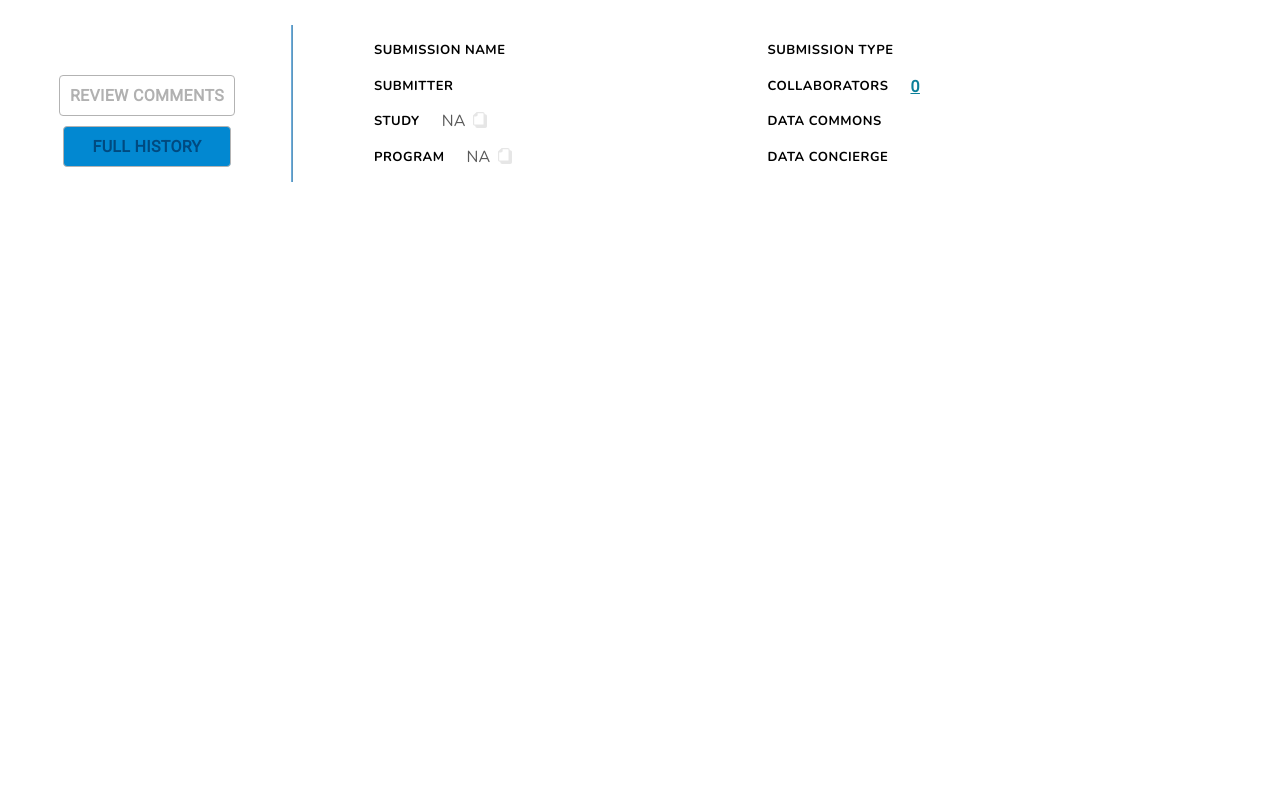
Test: DataSubmissionSummary History Dialog Tests › renders the history events correctly in the dialog
Click the button "Full History" at (147, 146), box x1=63 y1=126 x2=231 y2=167
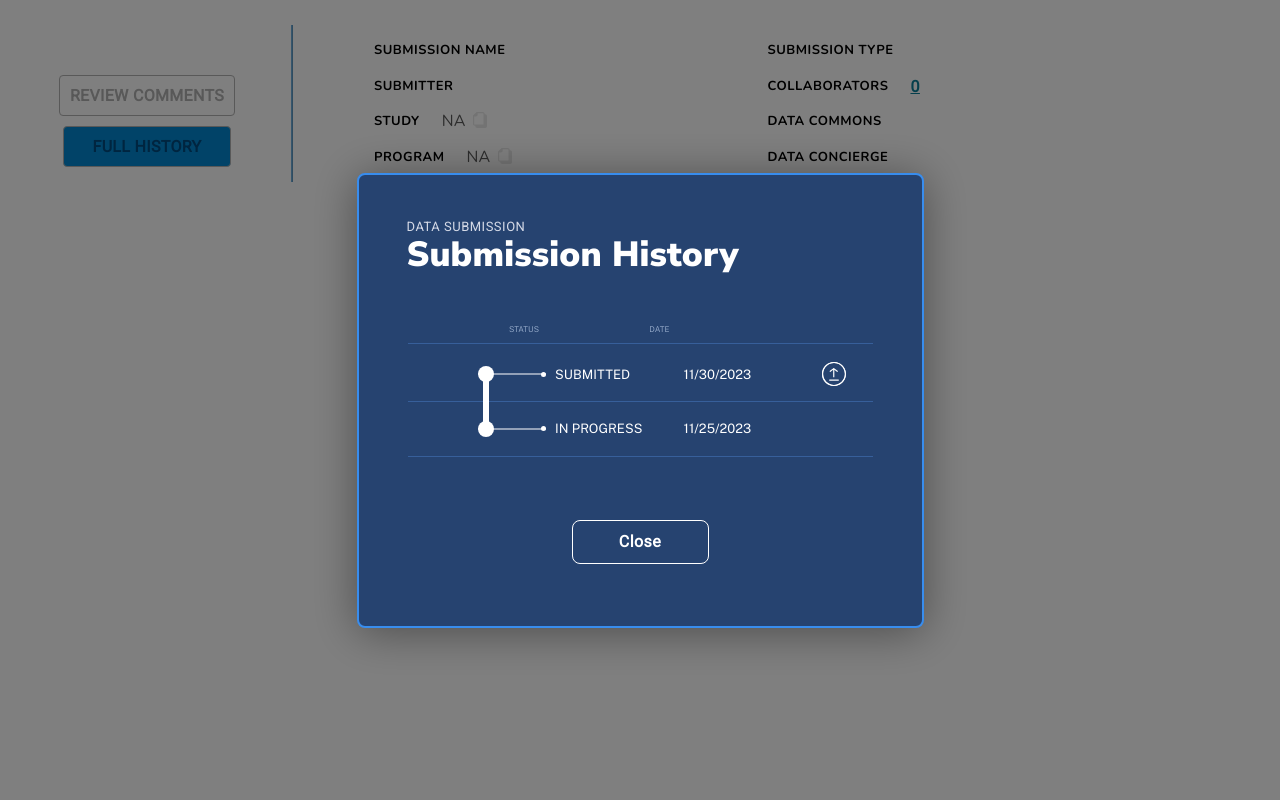
Expected: the text "SUBMITTED" is shown, x1=555 y1=364 x2=630 y2=384
Expected: the text "IN PROGRESS" is shown, x1=555 y1=419 x2=642 y2=438
